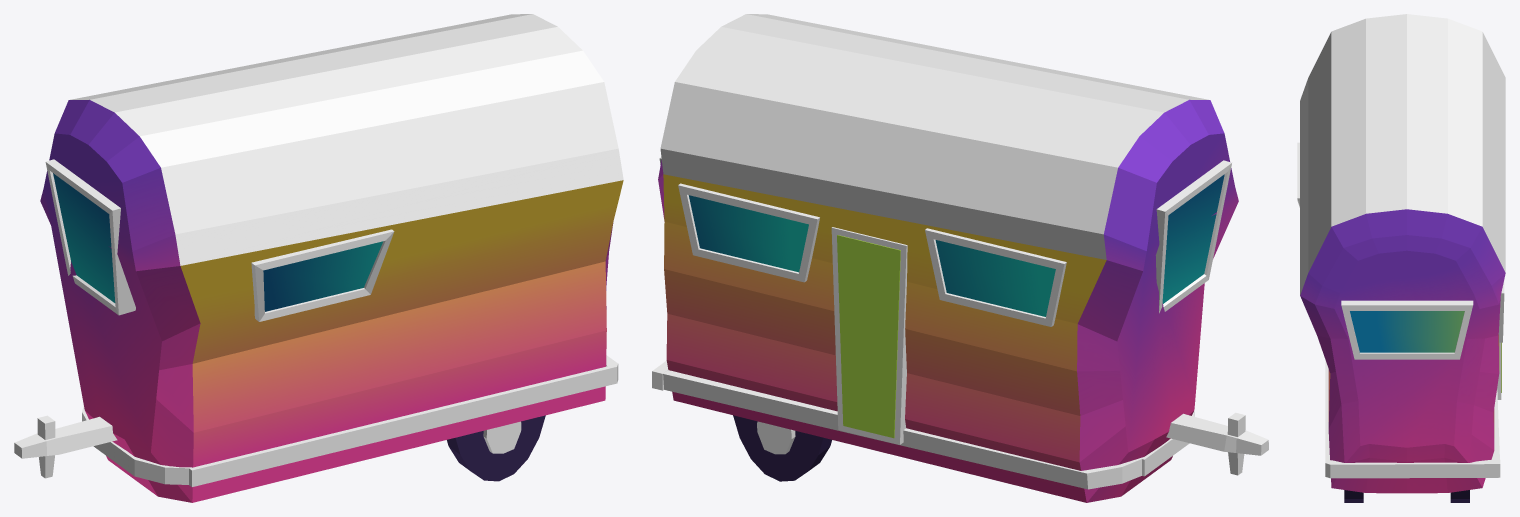
The model's file is StylizedCaravan_UVMapped.fbx.
3 views of the same model, side by side, from view 1: azimuth 30°, elevation 25°; view 2: azimuth 150°, elevation 25°; view 3: azimuth 270°, elevation 25° (orthographic). The views are drawn at different scales.
Visible parts, largest first — view 1: CaravanBody, StructureSupport, LWindow, FrontWindow, TowHitch, LTyre, LWheel; view 2: CaravanBody, Door, StructureSupport, RRWindow, RFWindow, FrontWindow, TowHitch, RTyre, RWheel; view 3: CaravanBody, RearWindow, StructureSupport, RRWindow.
Boxes of the visible parts, x1=… form: CaravanBody: x1=40, y1=14, x2=623, y2=502; StructureSupport: x1=82, y1=355, x2=618, y2=486; LWindow: x1=251, y1=229, x2=394, y2=321; FrontWindow: x1=45, y1=159, x2=135, y2=315; TowHitch: x1=14, y1=415, x2=117, y2=478; LTyre: x1=447, y1=415, x2=545, y2=481; LWheel: x1=483, y1=421, x2=521, y2=453; CaravanBody: x1=658, y1=14, x2=1238, y2=502; Door: x1=831, y1=227, x2=907, y2=444; StructureSupport: x1=652, y1=360, x2=1194, y2=489; RRWindow: x1=678, y1=183, x2=819, y2=282; RFWindow: x1=925, y1=228, x2=1066, y2=326; FrontWindow: x1=1155, y1=160, x2=1231, y2=313; TowHitch: x1=1166, y1=412, x2=1268, y2=475; RTyre: x1=733, y1=415, x2=831, y2=481; RWheel: x1=757, y1=421, x2=795, y2=454; CaravanBody: x1=1300, y1=14, x2=1505, y2=493; RearWindow: x1=1341, y1=300, x2=1473, y2=359; StructureSupport: x1=1325, y1=360, x2=1500, y2=478; RRWindow: x1=1498, y1=280, x2=1504, y2=342.
Size of the model in its own units: 317 by 808 by 583.
